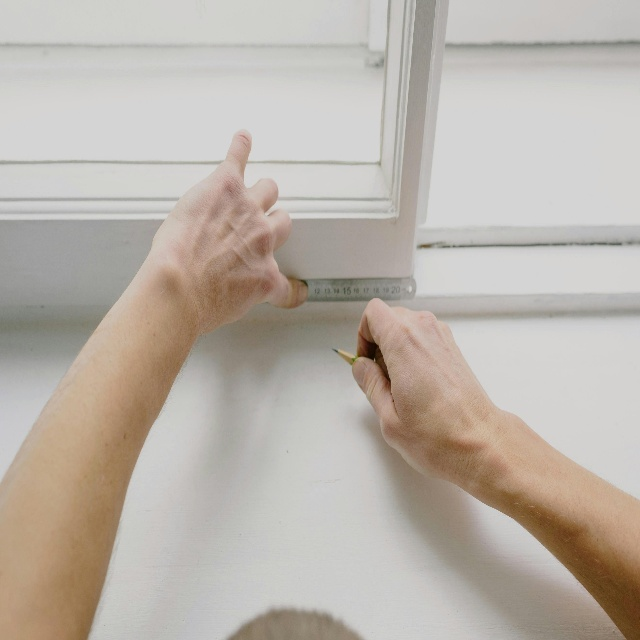Sin_guantes: (147, 123, 308, 337), (349, 289, 505, 499)
